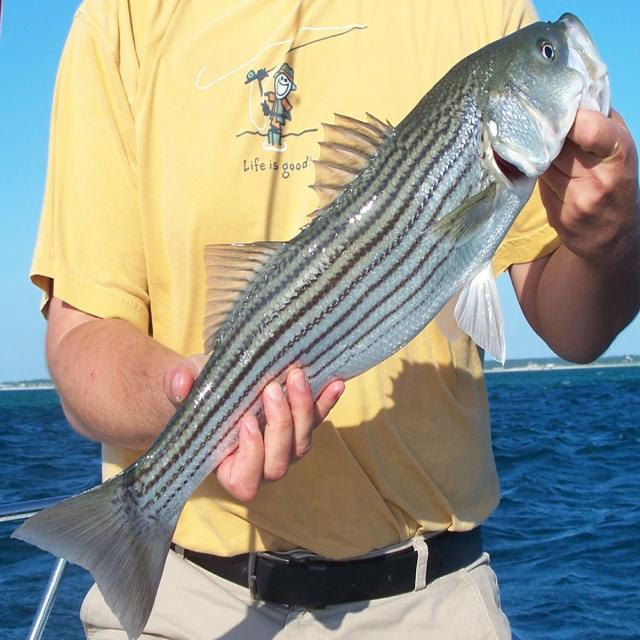Bass - Striped: (34, 4, 533, 356), (175, 305, 497, 617), (473, 27, 581, 179)
